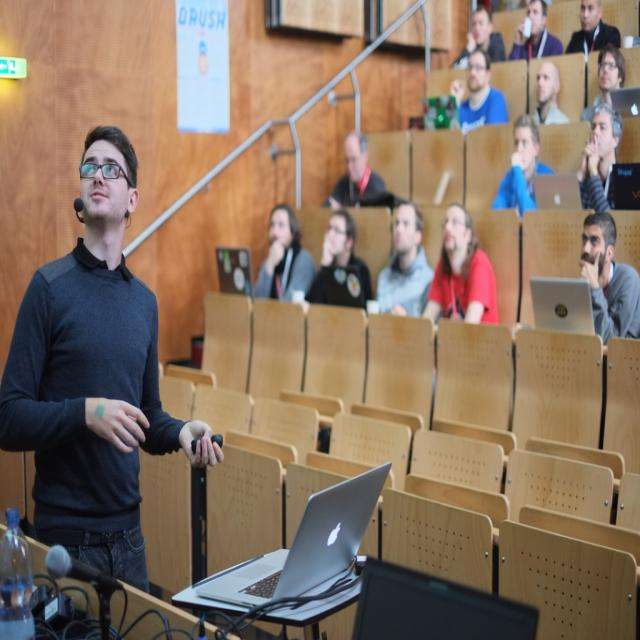chair: (498, 516, 640, 636), (352, 558, 538, 636), (378, 483, 501, 598), (512, 325, 604, 452), (432, 320, 516, 445), (361, 312, 436, 430), (506, 448, 616, 524), (407, 428, 507, 497), (328, 411, 412, 489), (601, 336, 640, 473), (250, 396, 319, 464), (193, 387, 255, 434), (160, 374, 196, 422), (615, 472, 640, 534)
desk: (171, 554, 363, 640)
laptop: (172, 459, 387, 624), (529, 276, 597, 338), (214, 246, 254, 296)
person: (0, 124, 224, 593), (422, 203, 499, 328), (579, 211, 640, 342), (304, 206, 372, 310), (374, 200, 434, 316), (252, 202, 315, 303)
